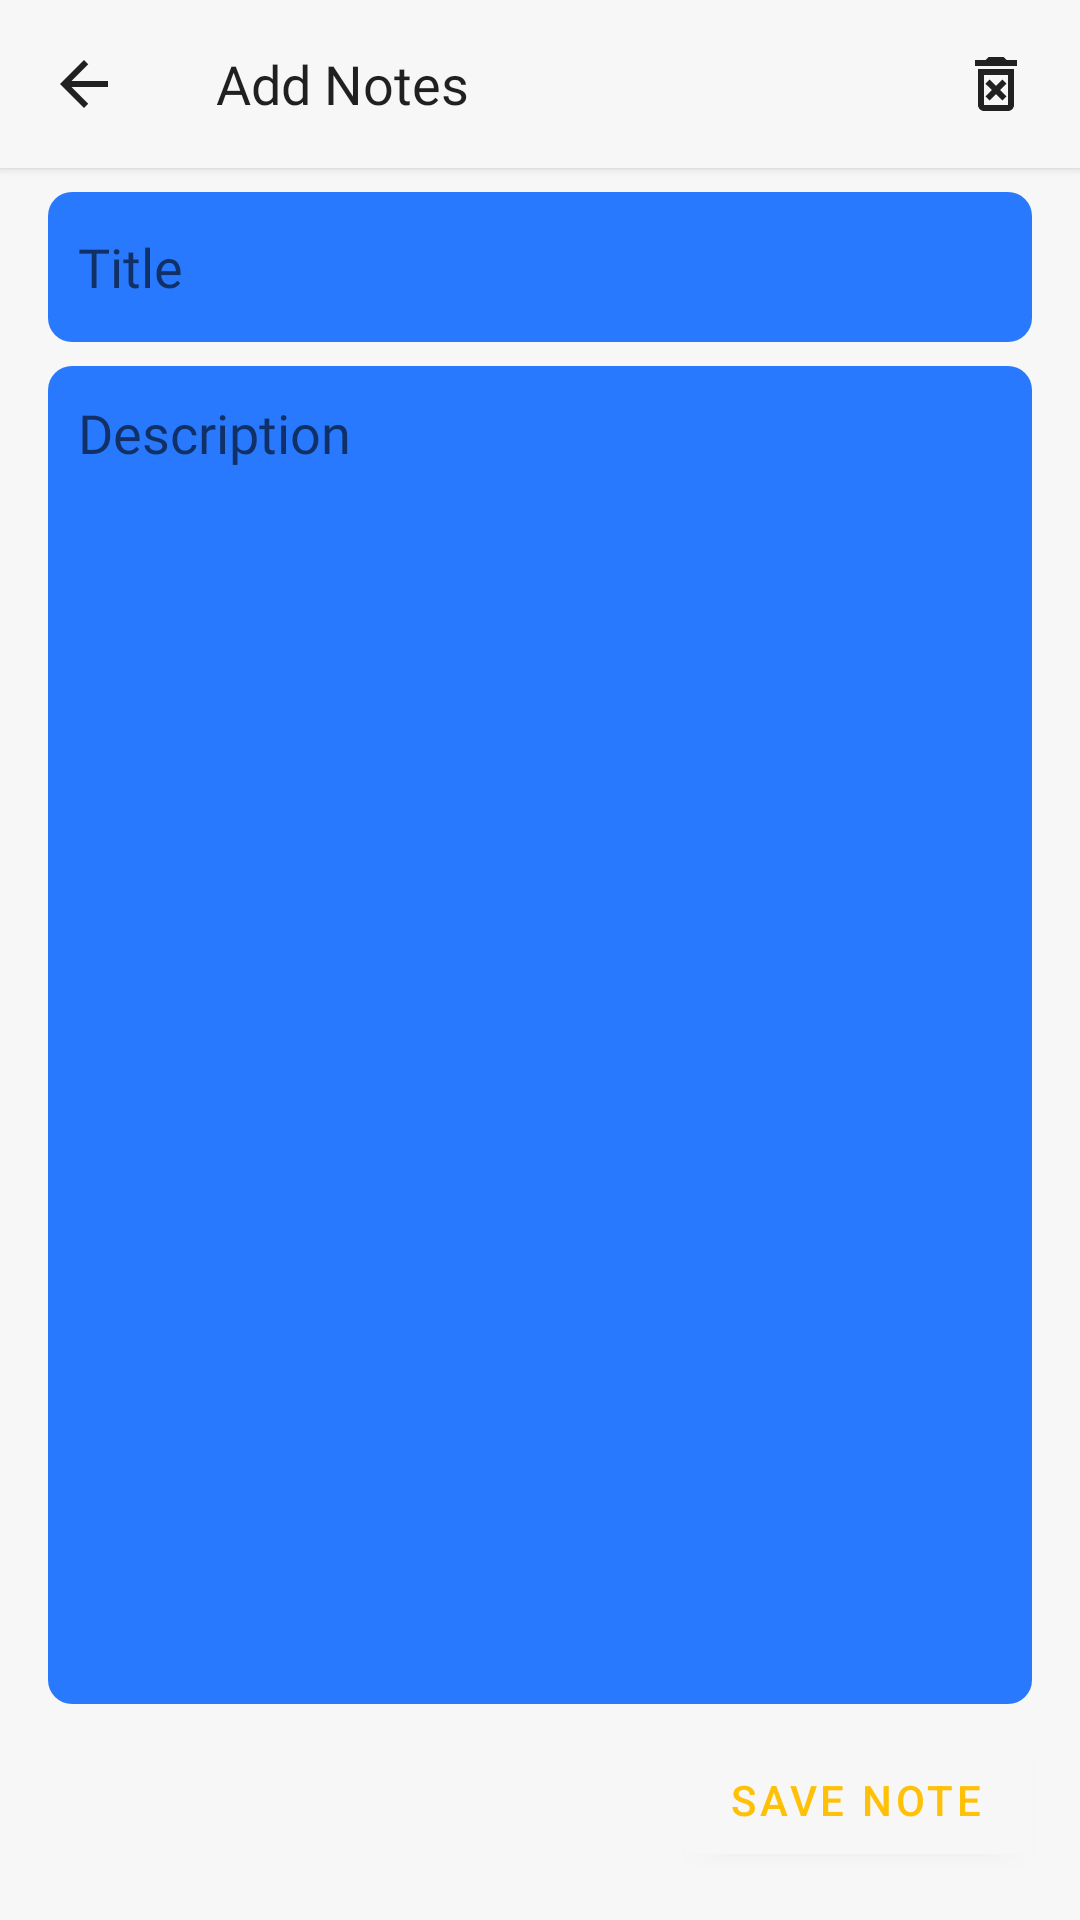

Screen size 1080px×1920px. Icon name, then its center in pixels as point (x, y):
delete: point (996, 84)
